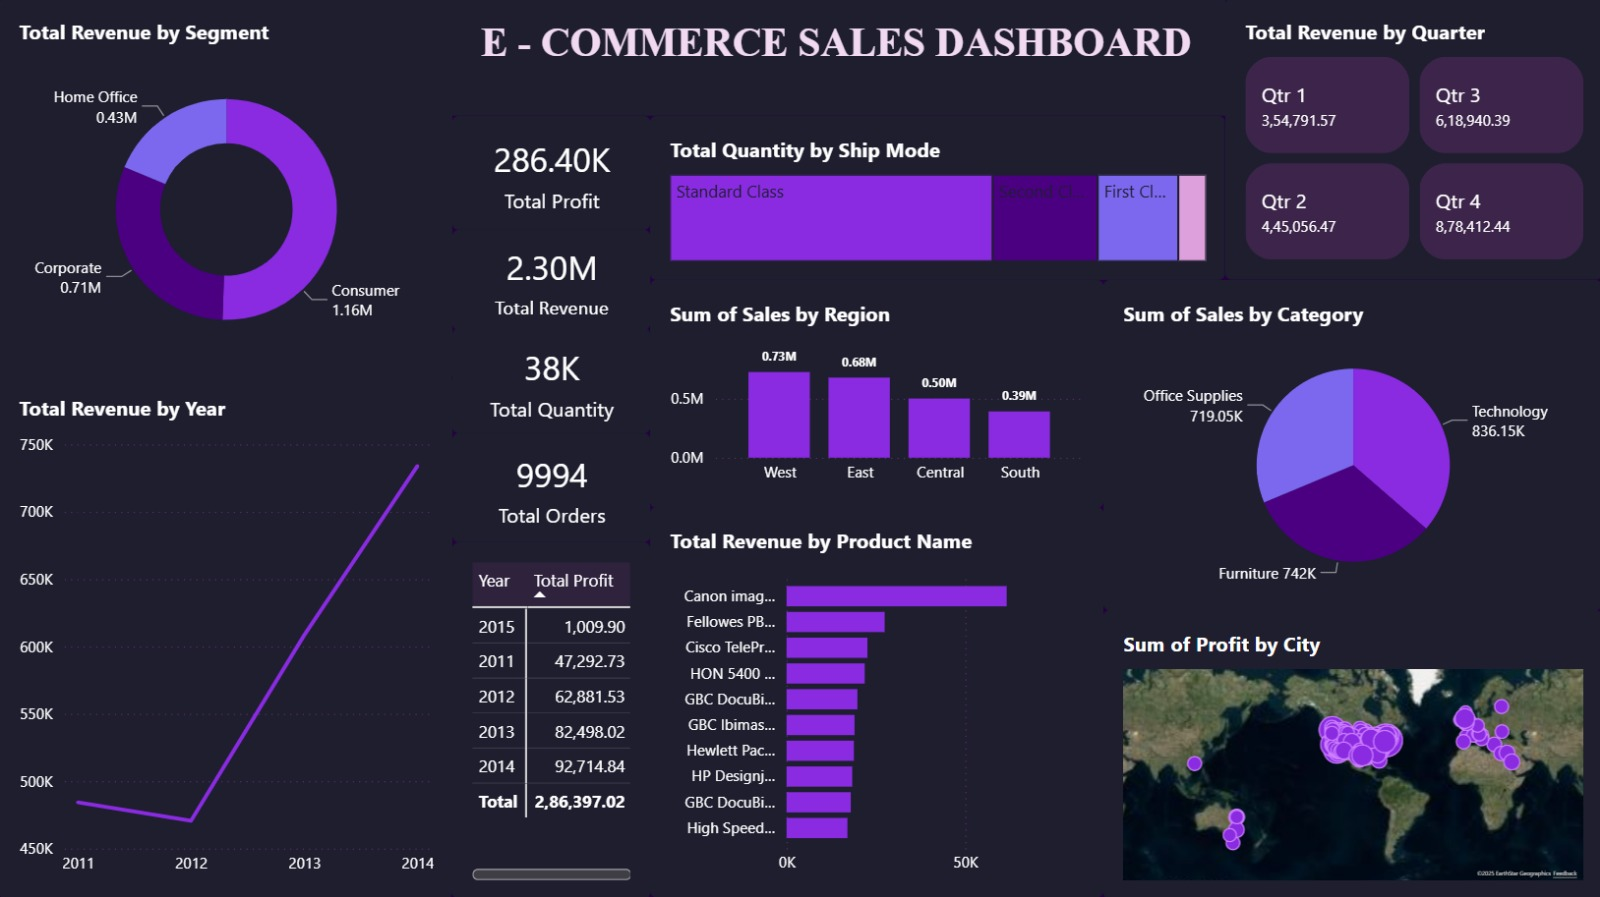

The page's visual inventory and layout, read from the dashboard file:
{"tool":"powerbi","page":{"name":"Page 1","canvas":[1280,720],"ordinal":0},"visuals":[{"type":"card","fields":{"Values":["Orders.Total Revenue"]},"box":[362,185,158,80],"z":0},{"type":"card","fields":{"Values":["Orders.Total Quantity"]},"box":[362,264,158,84],"z":1000},{"type":"card","fields":{"Values":["Orders.Total Orders"]},"box":[362,348,158,87],"z":2000},{"type":"lineChart","fields":{"Category":["Orders.Order Date.Variation.Date Hierarchy.Year","Orders.Order Date.Variation.Date Hierarchy.Quarter","Orders.Order Date.Variation.Date Hierarchy.Month","Orders.Order Date.Variation.Date Hierarchy.Day"],"Y":["Orders.Total Revenue"]},"box":[0,301,362,419],"z":3000},{"type":"pieChart","fields":{"Category":["Orders.Category"],"Y":["Sum(Orders.Sales)"]},"box":[882,225,398,264],"z":4000},{"type":"barChart","fields":{"Category":["Orders.Product Name"],"Y":["Orders.Total Revenue"]},"box":[520,407,362,313],"z":5000},{"type":"card","fields":{"Values":["Orders.Total Profit"]},"box":[362,94,158,91],"z":6000},{"type":"map","fields":{"Size":["Sum(Orders.Profit)"],"Category":["Orders.City"]},"box":[882,489,398,231],"z":7000},{"type":"clusteredColumnChart","fields":{"Y":["Sum(Orders.Sales)"],"Category":["Orders.Region"]},"box":[520,225,362,182],"z":8000},{"type":"advancedSlicerVisual","fields":{"Values":["Orders.Order Date.Variation.Date Hierarchy.Quarter"],"Label":["Orders.Total Revenue"]},"box":[979,0,301,225],"z":9000},{"type":"donutChart","fields":{"Category":["Orders.Segment"],"Y":["Orders.Total Revenue"]},"box":[0,0,362,306],"z":10000},{"type":"pivotTable","fields":{"Rows":["Orders.Ship Date.Variation.Date Hierarchy.Year"],"Values":["Orders.Total Profit"]},"box":[357,435,163,285],"z":11000},{"type":"textbox","box":[357,0,622,94],"z":12000},{"type":"treemap","fields":{"Group":["Orders.Ship Mode"],"Values":["Orders.Total Quantity"]},"box":[520,94,459,131],"z":13000}]}

Visuals, with their boxes in screenshot pixels (x1, y1, x2, y2), scaled from the page's 1280x720 canvas onto the 1600x897 screenshot:
card - Orders.Total Revenue: [452, 230, 650, 330]
card - Orders.Total Quantity: [452, 329, 650, 434]
card - Orders.Total Orders: [452, 434, 650, 542]
lineChart - Orders.Order Date.Variation.Date Hierarchy.Year x Orders.Order Date.Variation.Date Hierarchy.Quarter: [0, 375, 452, 896]
pieChart - Orders.Category x Sum(Orders.Sales): [1102, 280, 1599, 609]
barChart - Orders.Product Name x Orders.Total Revenue: [650, 507, 1102, 896]
card - Orders.Total Profit: [452, 117, 650, 230]
map - Sum(Orders.Profit) x Orders.City: [1102, 609, 1599, 896]
clusteredColumnChart - Sum(Orders.Sales) x Orders.Region: [650, 280, 1102, 507]
advancedSlicerVisual - Orders.Order Date.Variation.Date Hierarchy.Quarter x Orders.Total Revenue: [1224, 0, 1599, 280]
donutChart - Orders.Segment x Orders.Total Revenue: [0, 0, 452, 381]
pivotTable - Orders.Ship Date.Variation.Date Hierarchy.Year x Orders.Total Profit: [446, 542, 650, 896]
textbox: [446, 0, 1224, 117]
treemap - Orders.Ship Mode x Orders.Total Quantity: [650, 117, 1224, 280]
